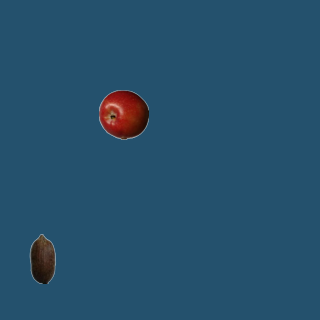Apple Braeburn: (98, 89, 148, 139)
Nut Pecan: (17, 233, 67, 283)
